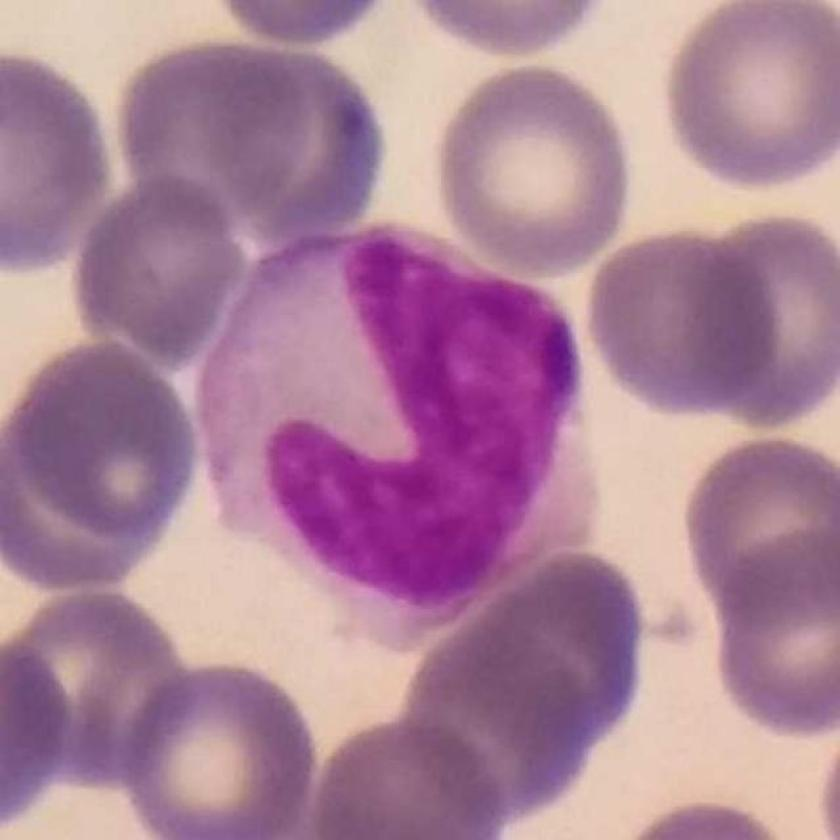monocyte: (196, 217, 608, 654)
